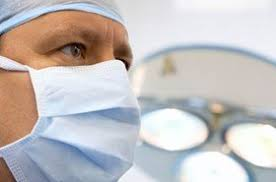mask: (0, 0, 162, 181)
